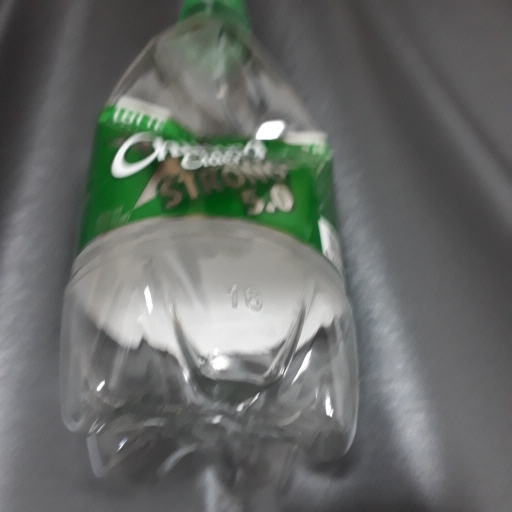Plastic_0: (62, 3, 358, 490)
